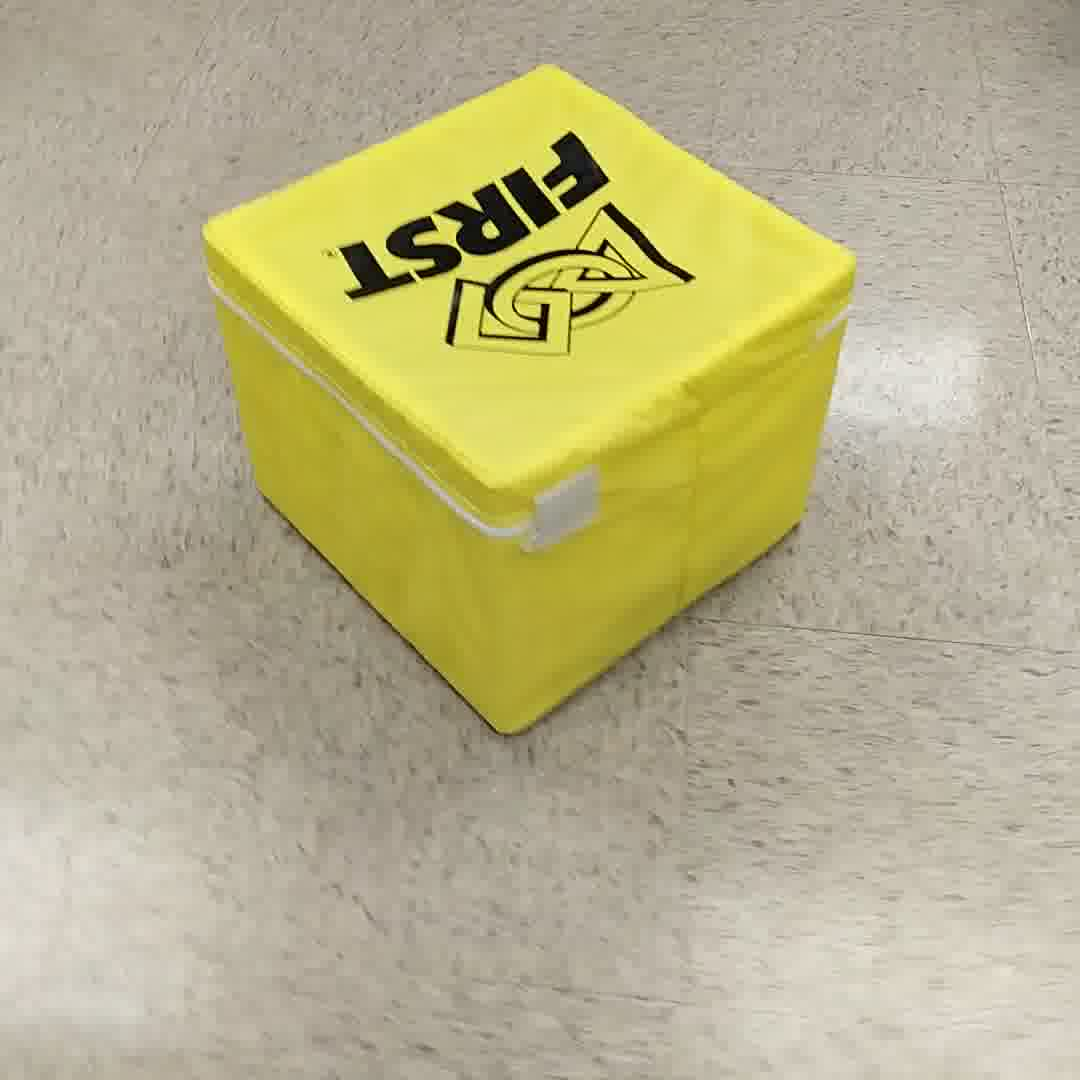box: (184, 61, 861, 735)
